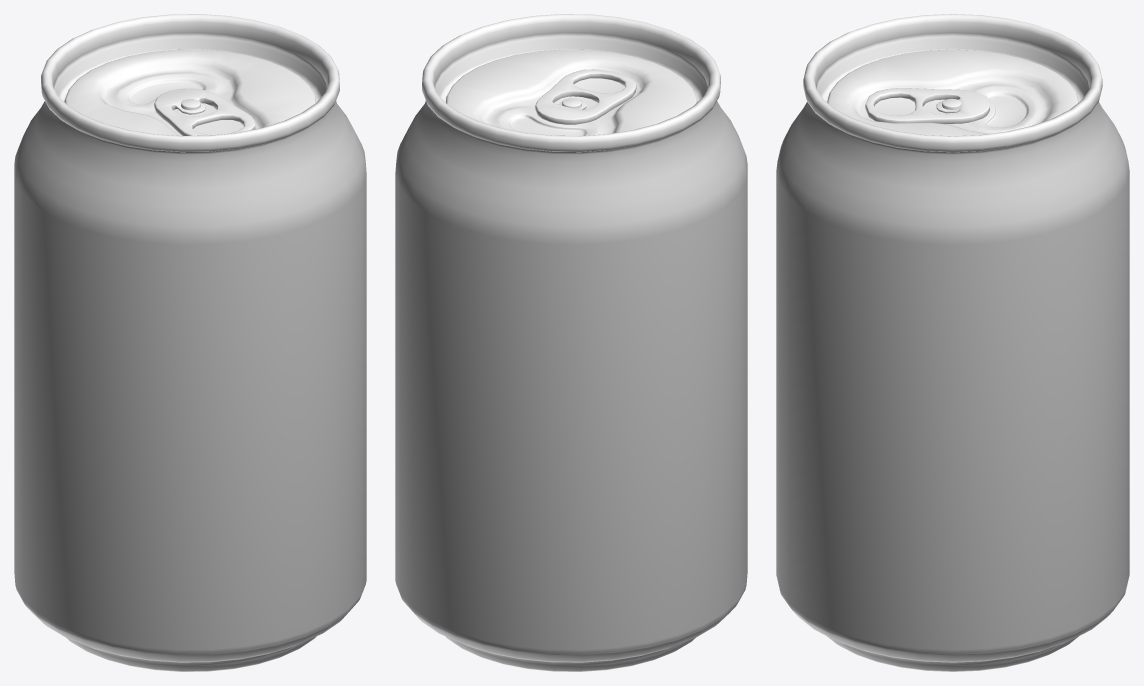
The model's file is DietSoda.obj.
The picture shows the model from 3 angles, left to right: view 1: azimuth 30°, elevation 25°; view 2: azimuth 150°, elevation 25°; view 3: azimuth 270°, elevation 25°; orthographic projection.
Visible parts, largest first — view 1: Can; view 2: Can; view 3: Can.
Boxes of the visible parts, left/top/right/bottom form: Can: left=14, top=14, right=366, bottom=671; Can: left=395, top=14, right=747, bottom=671; Can: left=776, top=14, right=1129, bottom=671.
Size of the model in its own units: 9.37 by 15.79 by 9.37.
